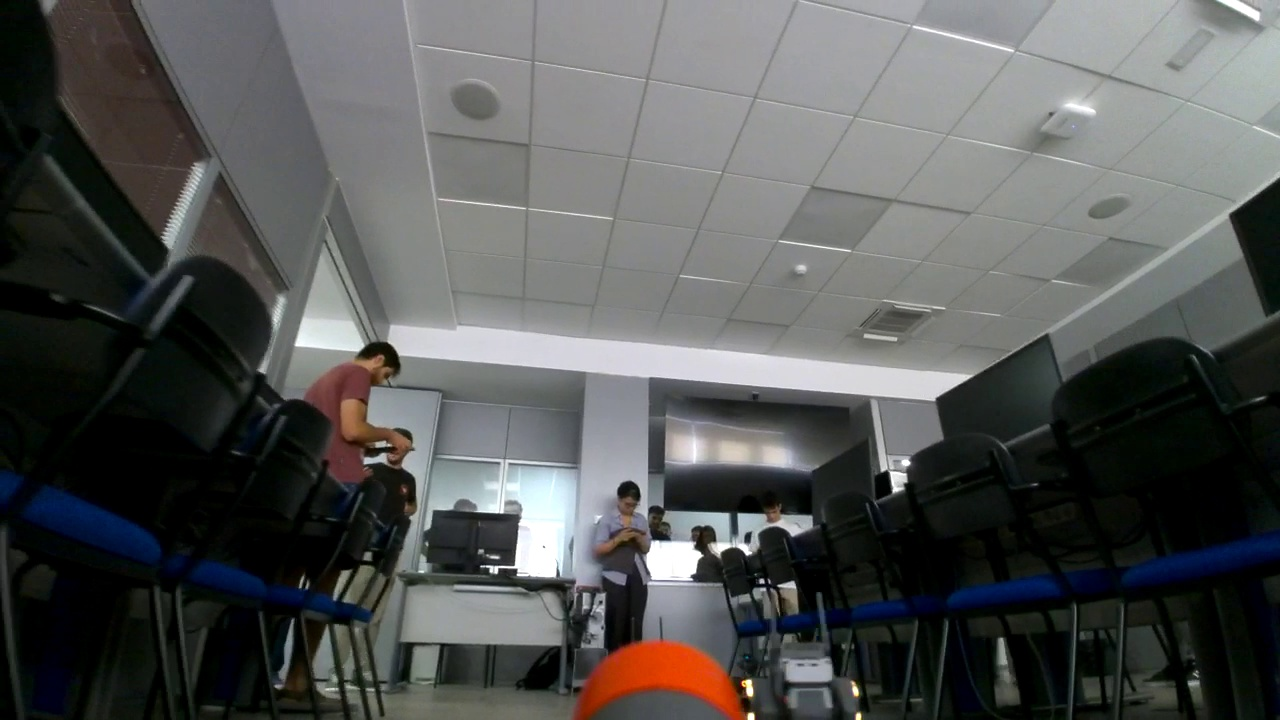robot: (742, 591, 861, 720)
